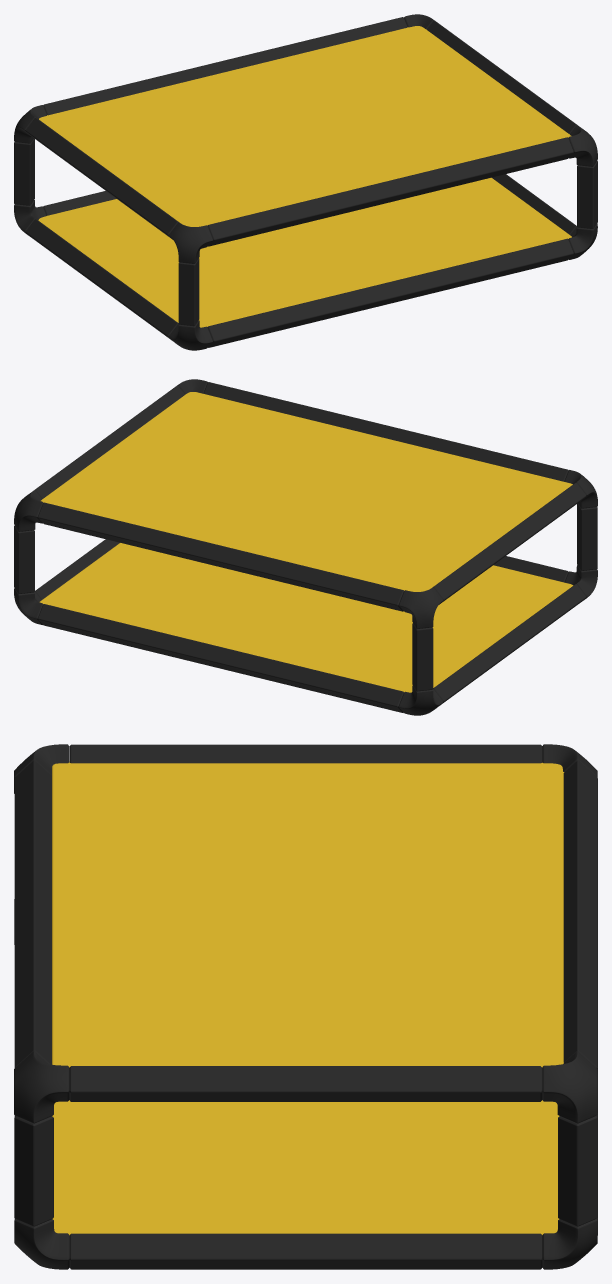
The picture shows the model from 3 angles, top to bottom: view 1: azimuth 30°, elevation 25°; view 2: azimuth 150°, elevation 25°; view 3: azimuth 270°, elevation 25°; orthographic projection. The views are drawn at different scales.
Parts seen in each view (by area): view 1: 479x329x79; view 2: 479x329x79; view 3: 479x329x79.
Part boxes in pixels (box(x1,y1,x2,y2)): 479x329x79: box(14, 14, 597, 350); 479x329x79: box(14, 379, 597, 715); 479x329x79: box(14, 744, 597, 1269).
Bounding box in the file's own units: 0.5567 × 0.1566 × 0.4063.
